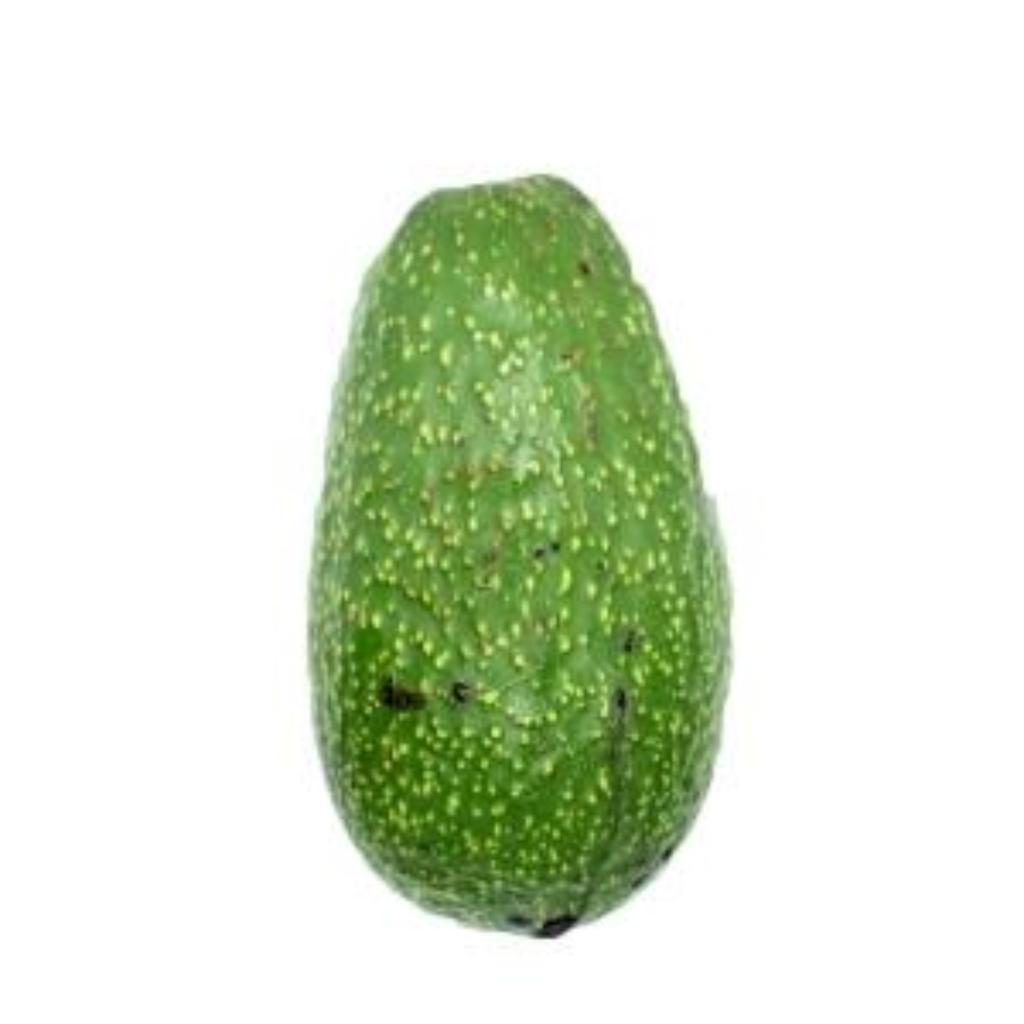cercospora_spot: (299, 148, 739, 958)
